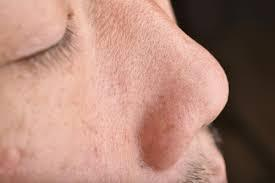Dry-Skin: (88, 103, 117, 148), (98, 32, 115, 59), (11, 140, 26, 169), (58, 103, 68, 132)
